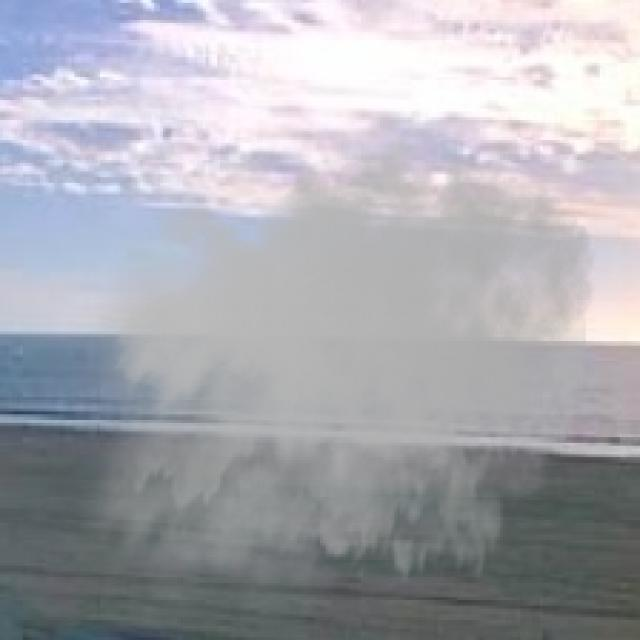Smoke: (65, 117, 600, 637)
